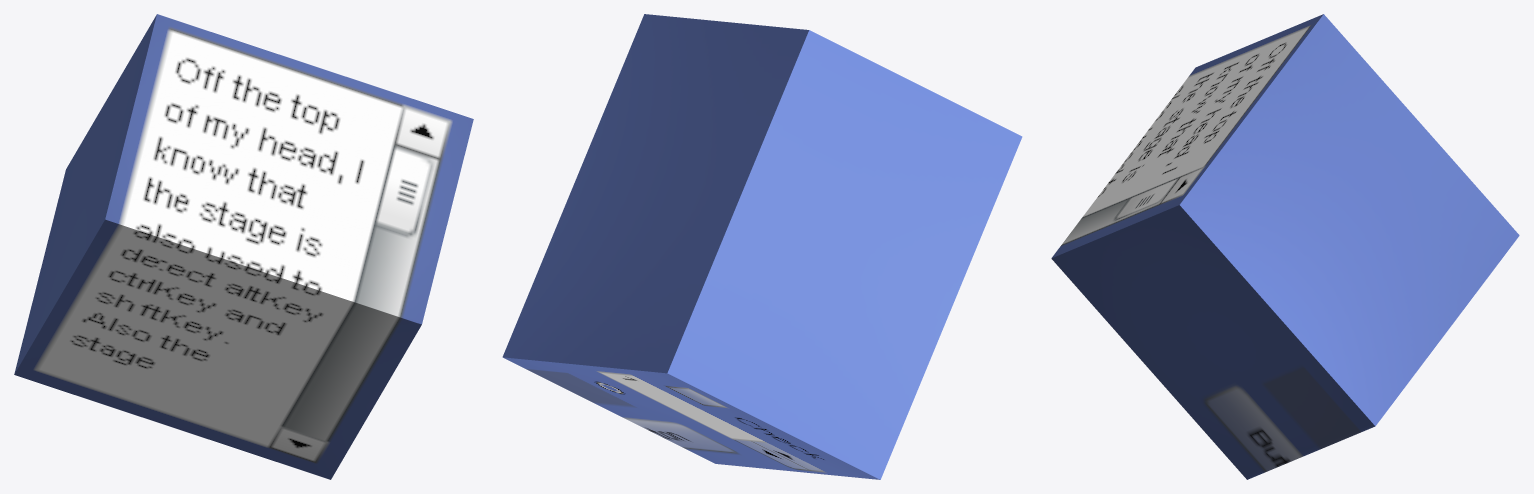
The picture shows the model from 3 angles, left to right: view 1: azimuth 30°, elevation 25°; view 2: azimuth 150°, elevation 25°; view 3: azimuth 270°, elevation 25°; orthographic projection. The views are drawn at different scales.
Parts seen in each view (by area): view 1: Box01_PIVOT; view 2: Box01_PIVOT; view 3: Box01_PIVOT.
Boxes of the visible parts, x1,y1,x2,y2 form: Box01_PIVOT: (14,14,473,479); Box01_PIVOT: (502,14,1022,479); Box01_PIVOT: (1051,14,1519,479).
Bounding box in the file's own units: 57.55 × 69.84 × 67.44.
Materials: 1 (1 with a texture image).
